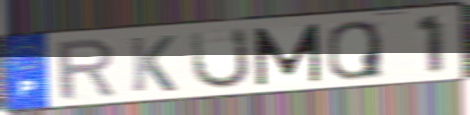1: (413, 14, 452, 76)
K: (128, 33, 179, 94)
M: (251, 21, 323, 89)
Q: (326, 18, 386, 82)
R: (53, 36, 119, 103)
U: (189, 25, 253, 92)
